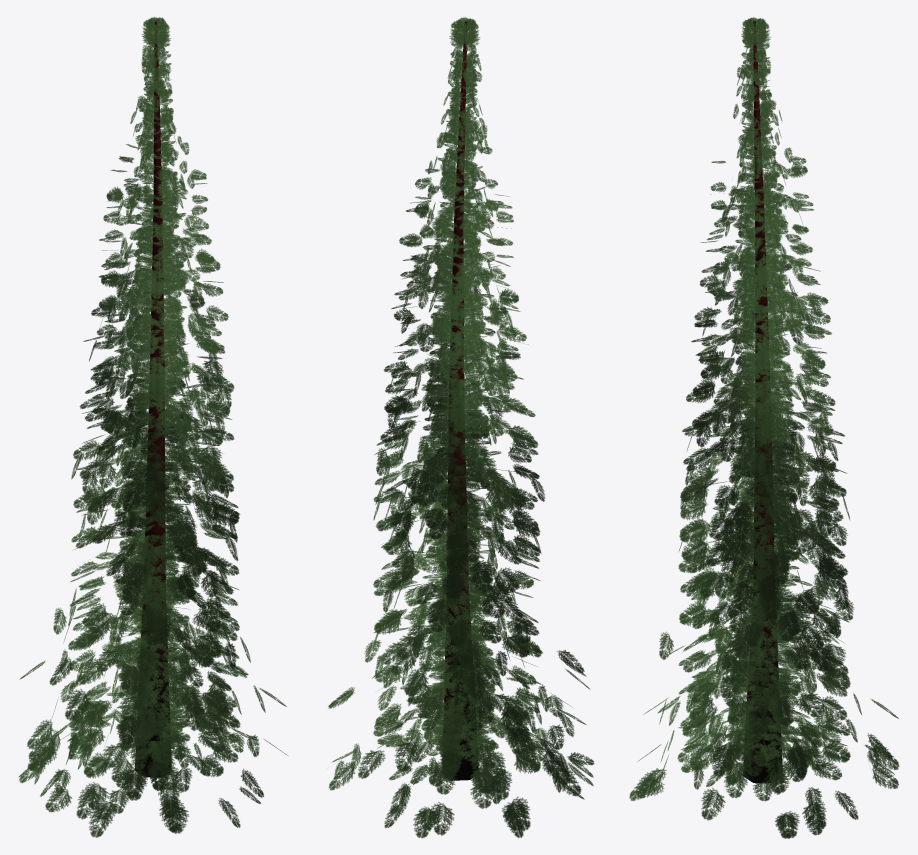
The model's file is spruce_conifer_v03_LOD2.glb.
3 renders of one model, left to right at view 1: azimuth 30°, elevation 25°; view 2: azimuth 150°, elevation 25°; view 3: azimuth 270°, elevation 25°, orthographic.
Parts seen in each view (by area): view 1: spruce_conifer_v03_LOD2; view 2: spruce_conifer_v03_LOD2; view 3: spruce_conifer_v03_LOD2.
Part boxes in pixels (bbox=[...]): spruce_conifer_v03_LOD2: bbox=[18, 17, 287, 837]; spruce_conifer_v03_LOD2: bbox=[328, 17, 594, 838]; spruce_conifer_v03_LOD2: bbox=[629, 17, 899, 838].
Size of the model in its own units: 10.55 by 33.05 by 10.74.
2 materials, 2 textured.
